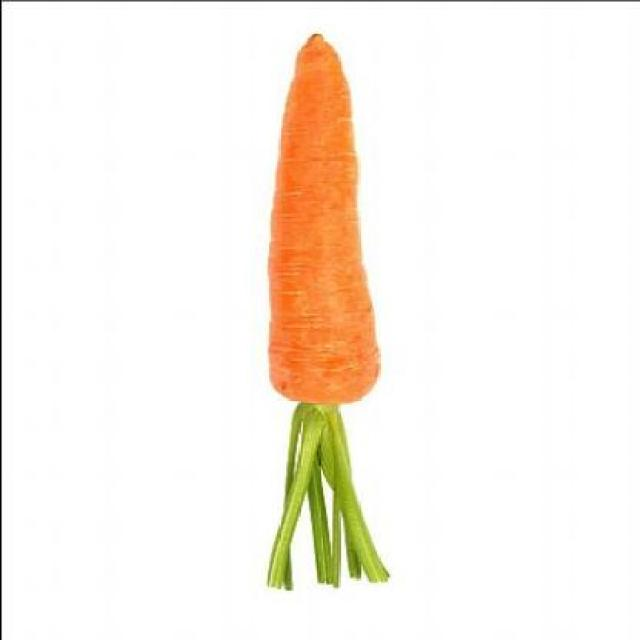carrot: (266, 30, 380, 402)
